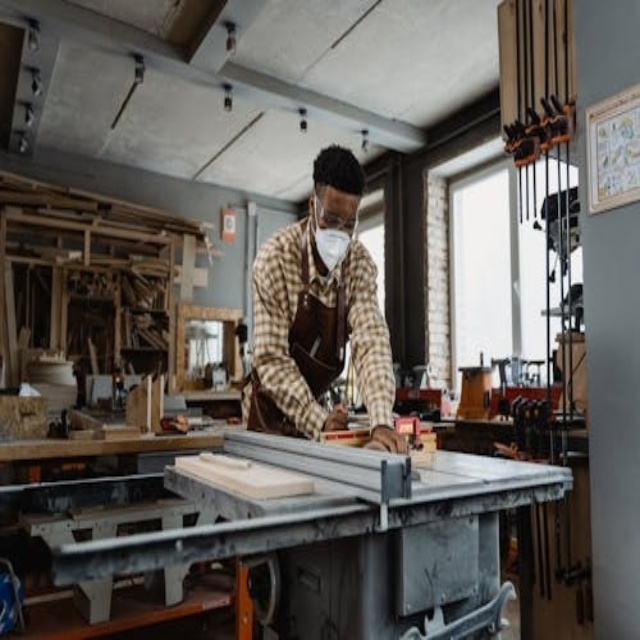Gafas: (316, 189, 359, 234)
Mascara: (312, 203, 353, 271)
Sin_guantes: (371, 409, 415, 461), (321, 398, 352, 438)
